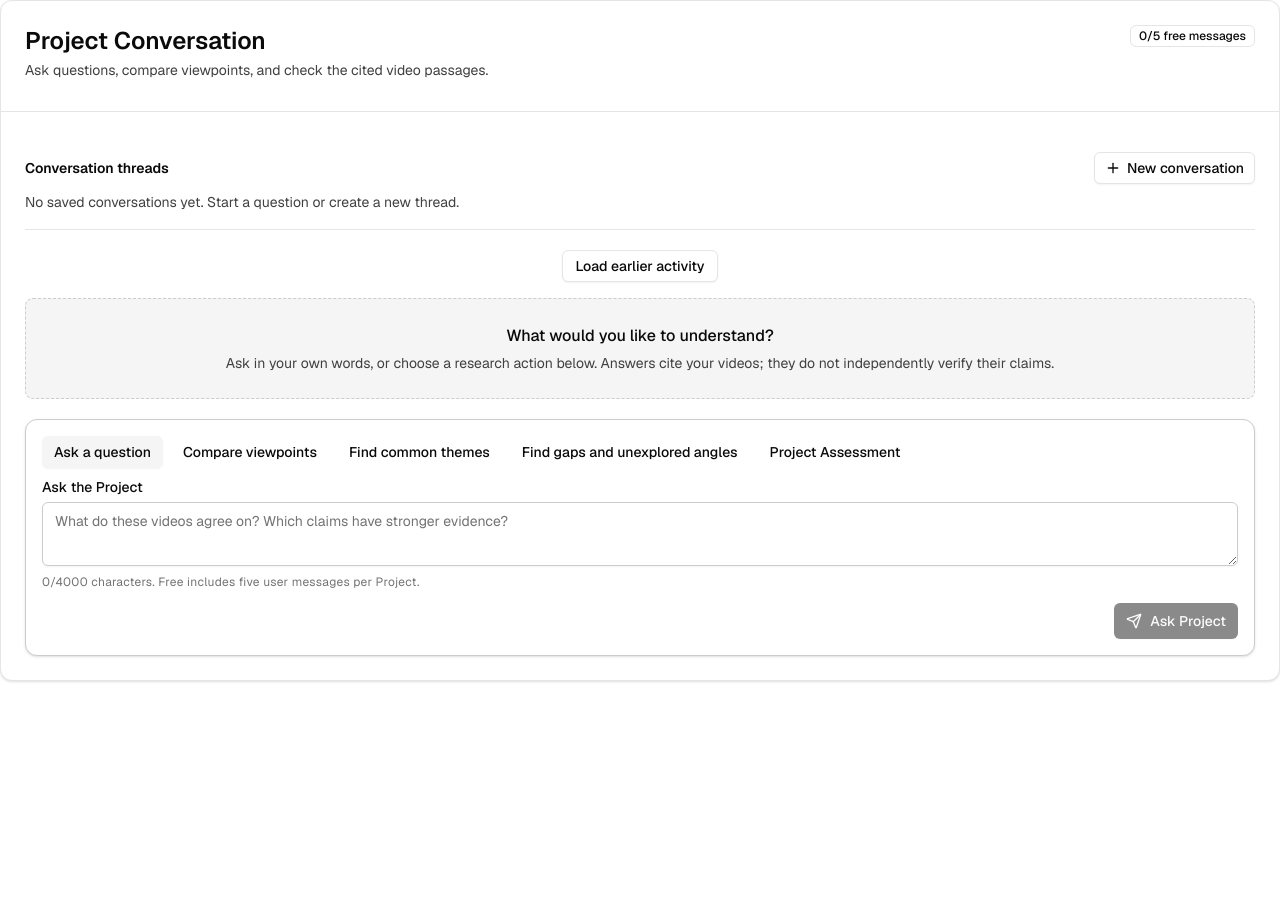
ProjectConversation › loads earlier Source Set activity through its independent cursor
This screenshot has width=1280, height=900.
What coordinates should you click on to do the following:
click the button "Load earlier activity"
I would click on:
 (640, 266)
Its box is [562,250,718,282].
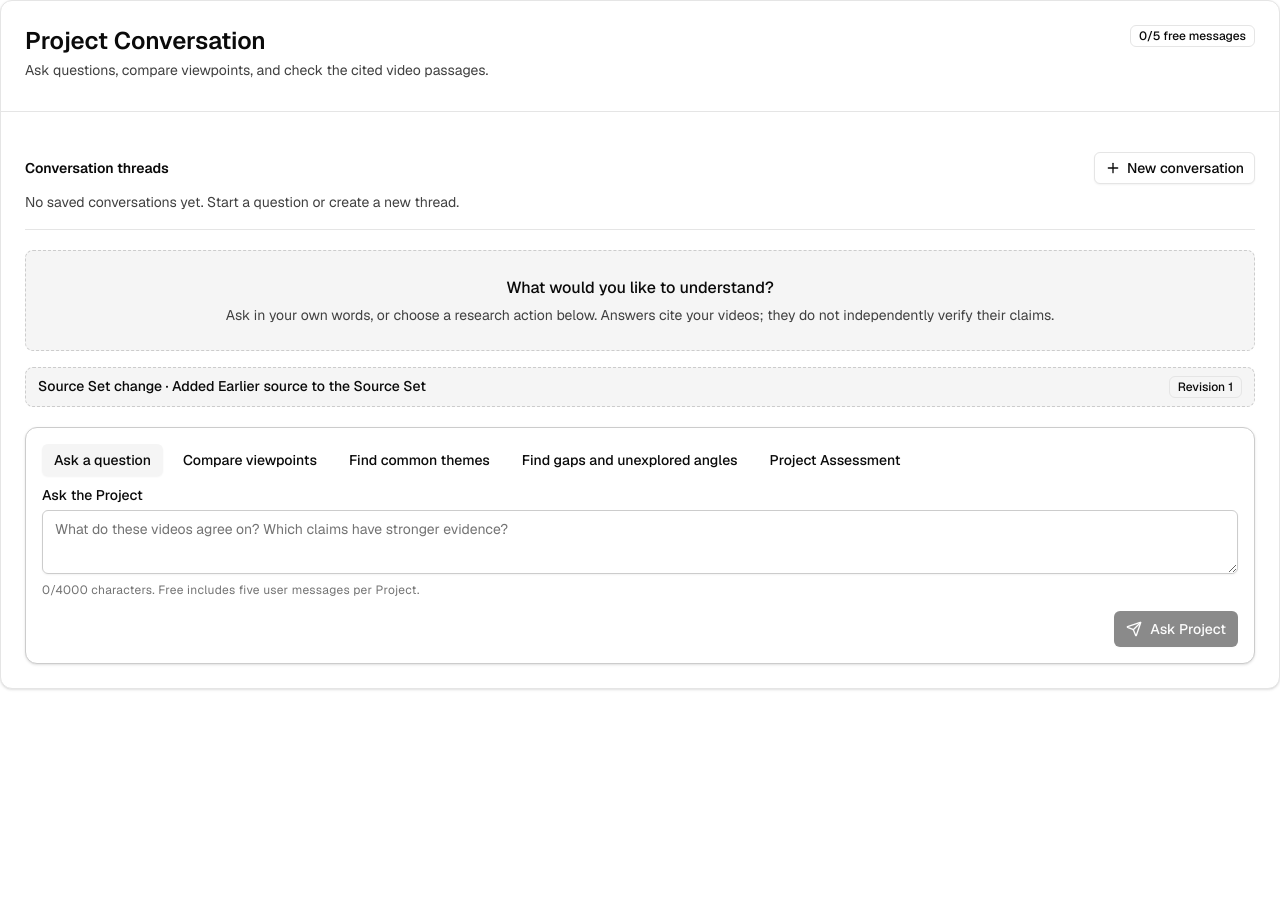
Check: the text "Source Set change · Added Earlier source to the Source Set" is shown, box [38,376,426,397]
Check: the button "Load earlier activity" is gone
